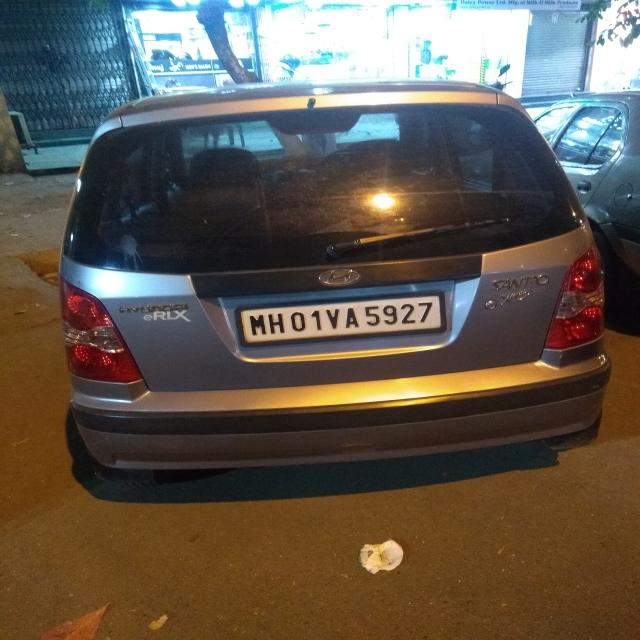Number-Plate: (245, 299, 444, 340)
